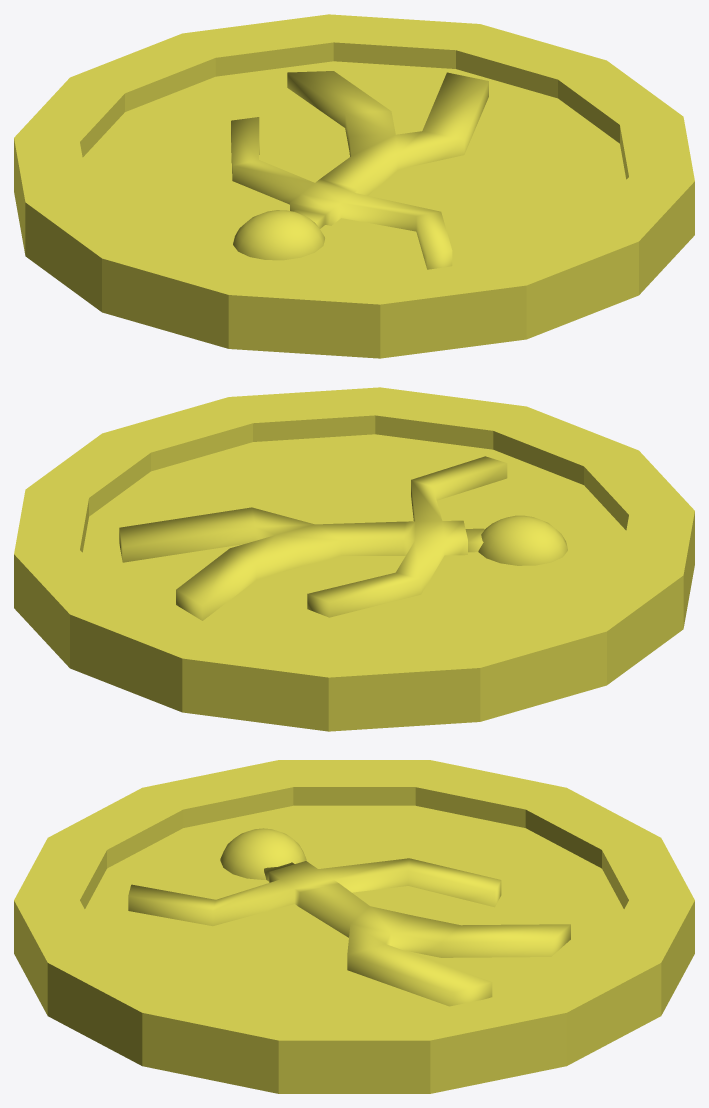
Rendered from monetka3 (3).fbx.
3 views of the same model, one above another, from view 1: azimuth 30°, elevation 25°; view 2: azimuth 150°, elevation 25°; view 3: azimuth 270°, elevation 25° (orthographic).
Parts seen in each view (by area): view 1: Cube, Cube.001; view 2: Cube, Cube.001; view 3: Cube, Cube.001.
Boxes of the visible parts, x1,y1,x2,y2 form: Cube: (14, 14, 694, 358); Cube.001: (231, 71, 488, 269); Cube: (14, 387, 694, 731); Cube.001: (119, 456, 567, 620); Cube: (14, 760, 694, 1093); Cube.001: (128, 828, 570, 1006).
Bounding box in the file's own units: 195 × 21.71 × 200.
